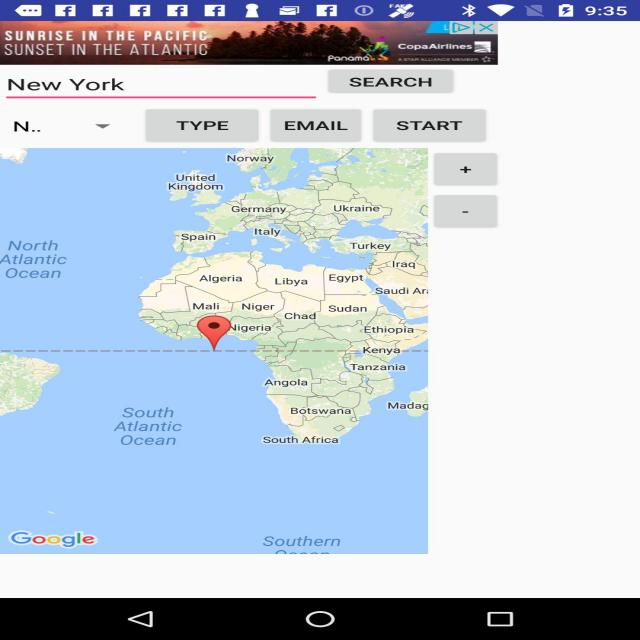button: (21, 66, 533, 140), (450, 156, 534, 247)
image: (10, 145, 444, 556)
